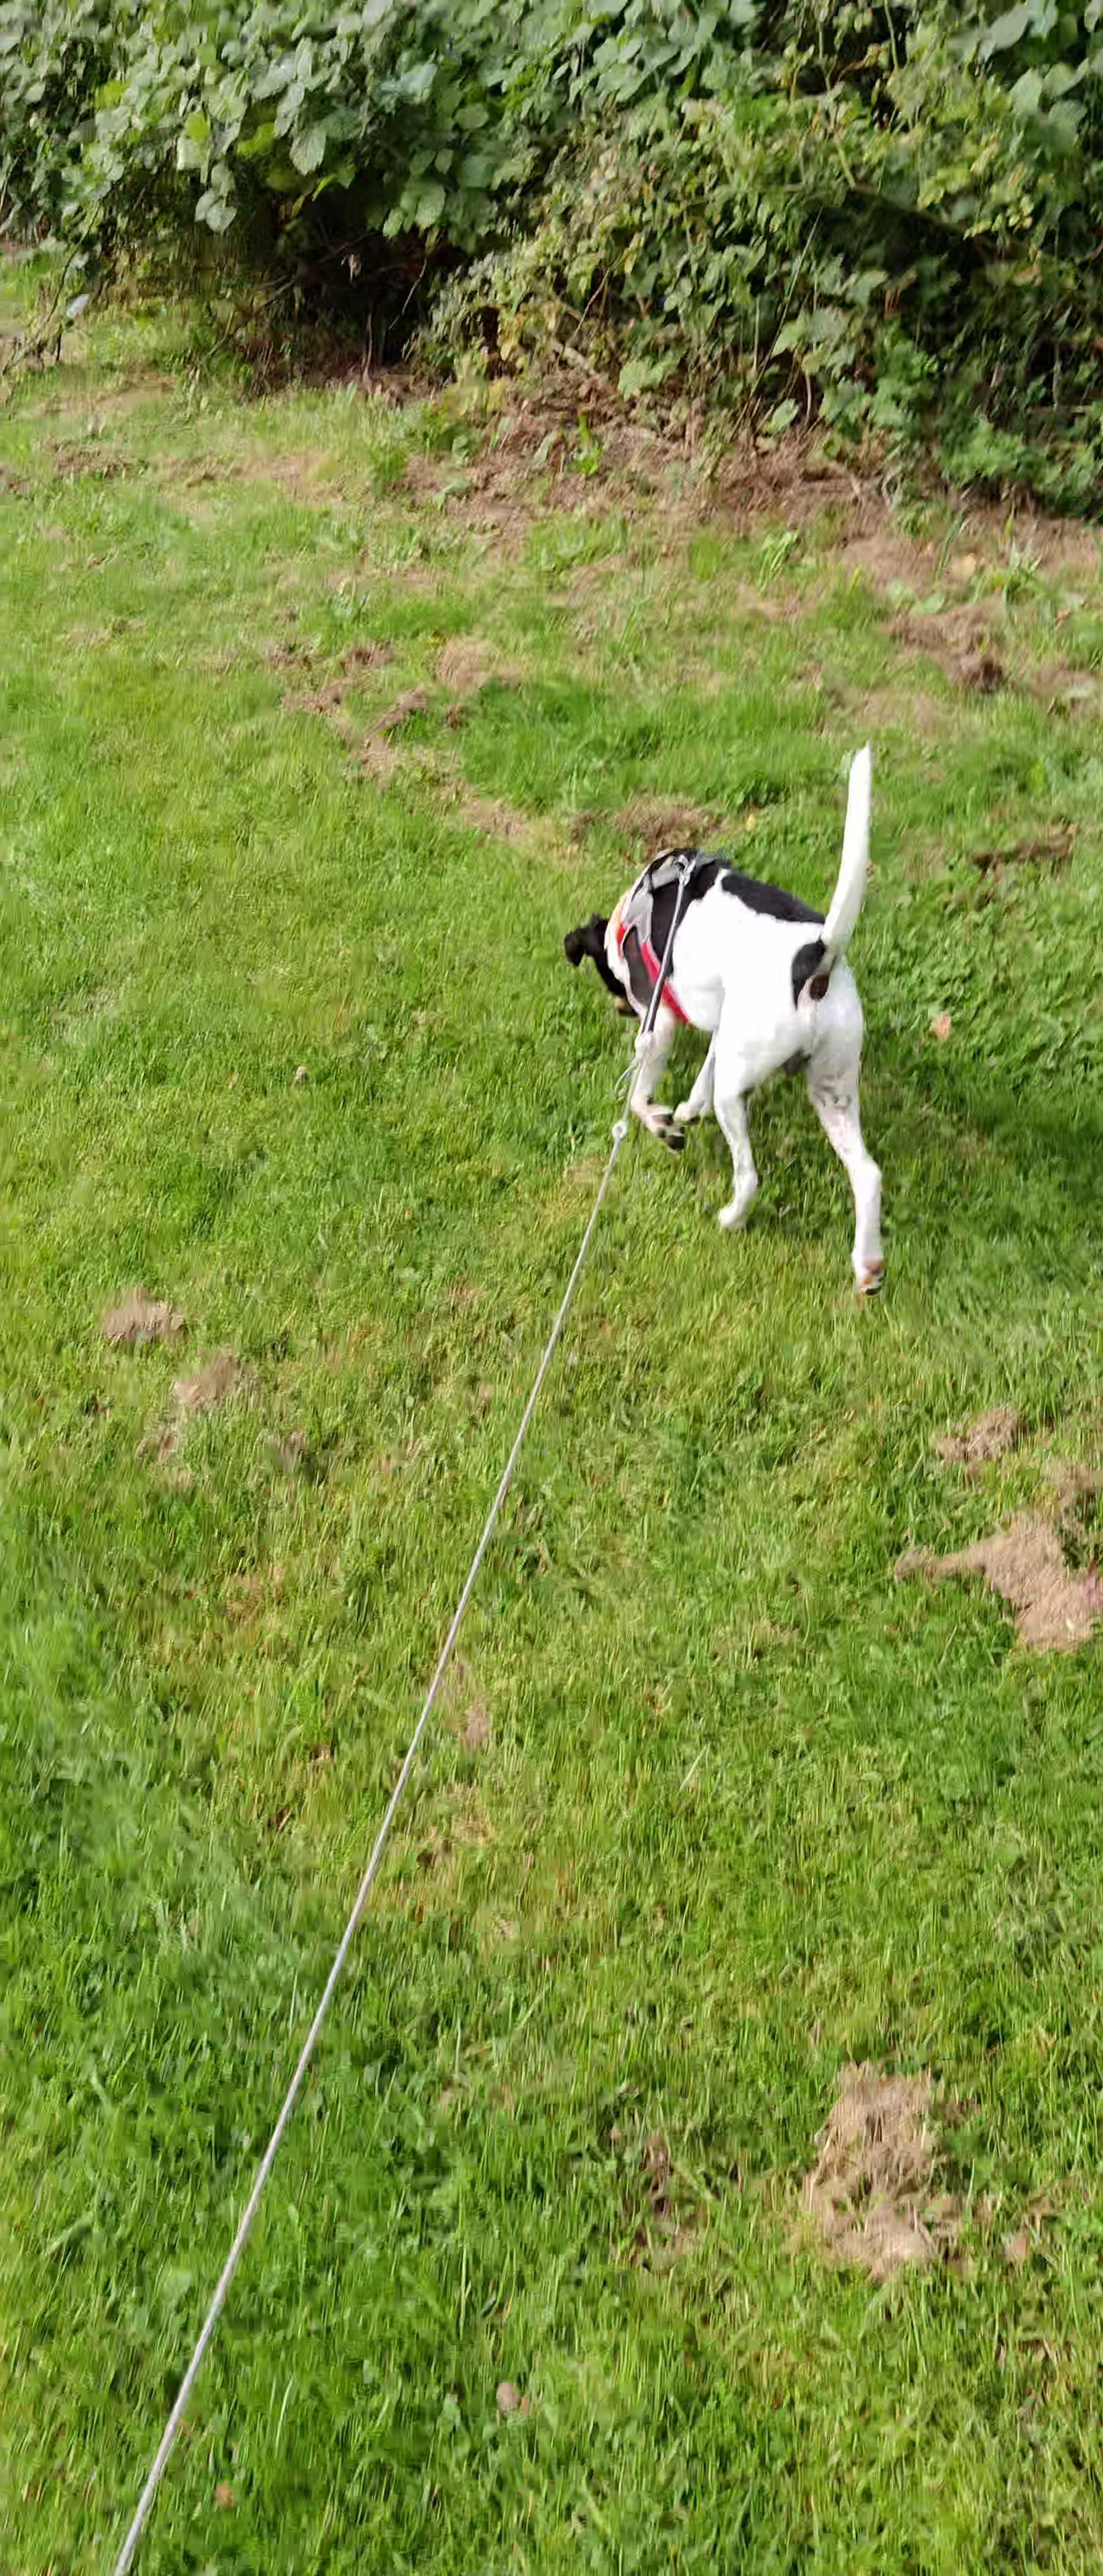Dog: (559, 736, 886, 1306)
